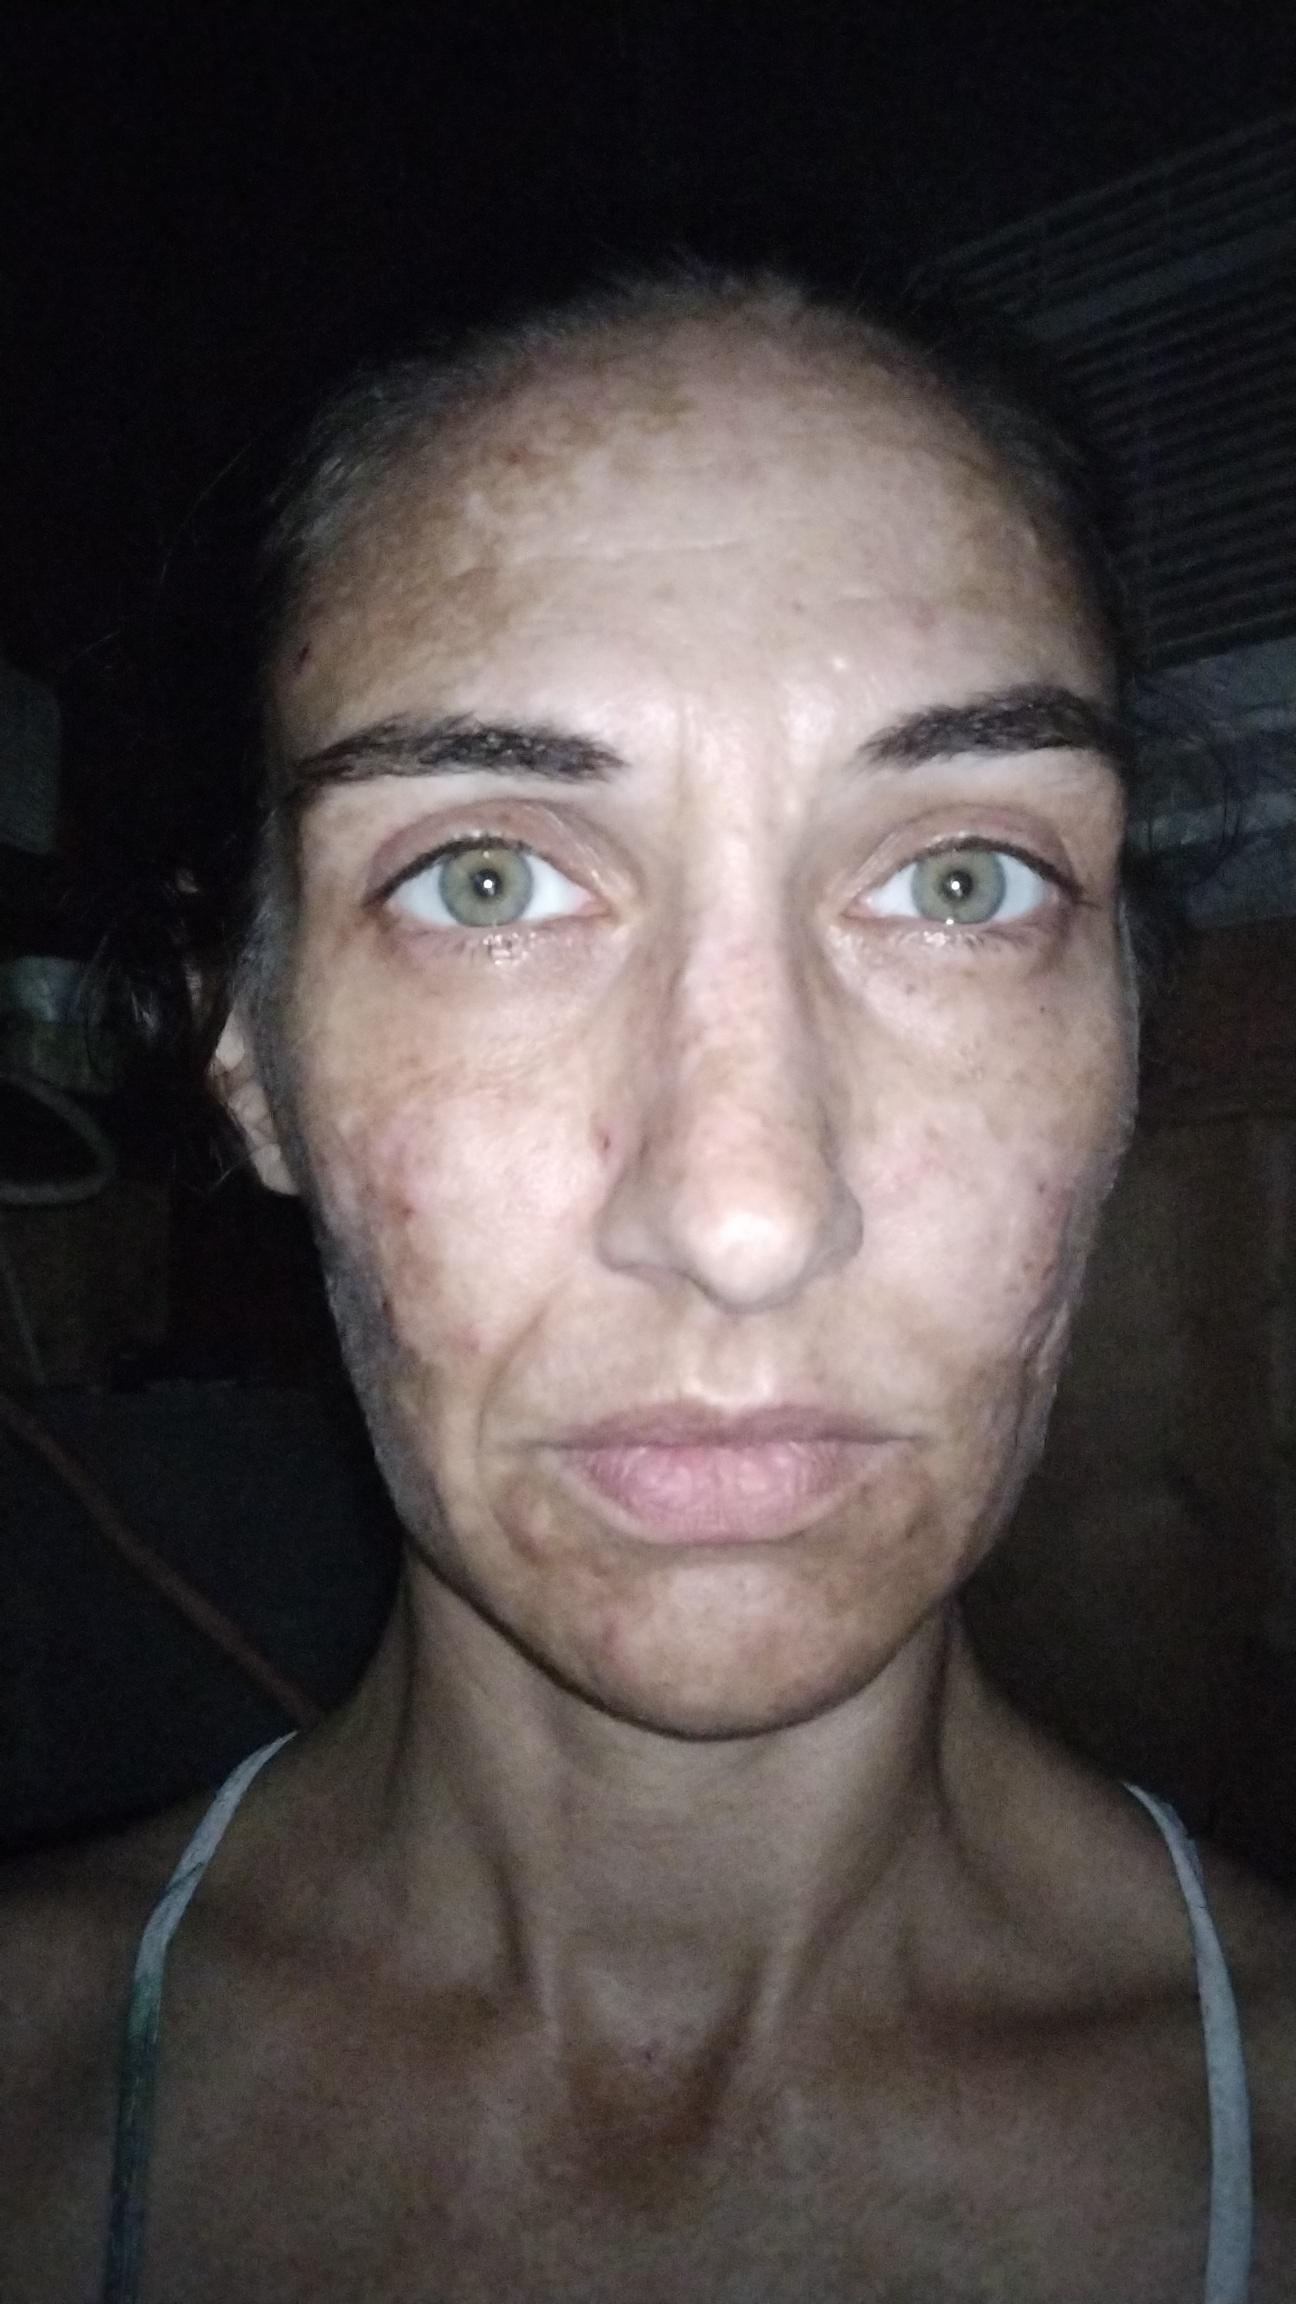Acne: (494, 1476, 552, 1559), (280, 627, 324, 695), (899, 592, 945, 638), (590, 1617, 622, 1671), (585, 1122, 622, 1168), (372, 1287, 400, 1336), (354, 1169, 389, 1207), (495, 445, 535, 476), (392, 1139, 423, 1179), (592, 1544, 622, 1582), (389, 1196, 424, 1226), (1032, 1252, 1057, 1287)
Wrinkles: (459, 1293, 562, 1586), (440, 527, 755, 584), (543, 449, 779, 478), (671, 690, 709, 828)
